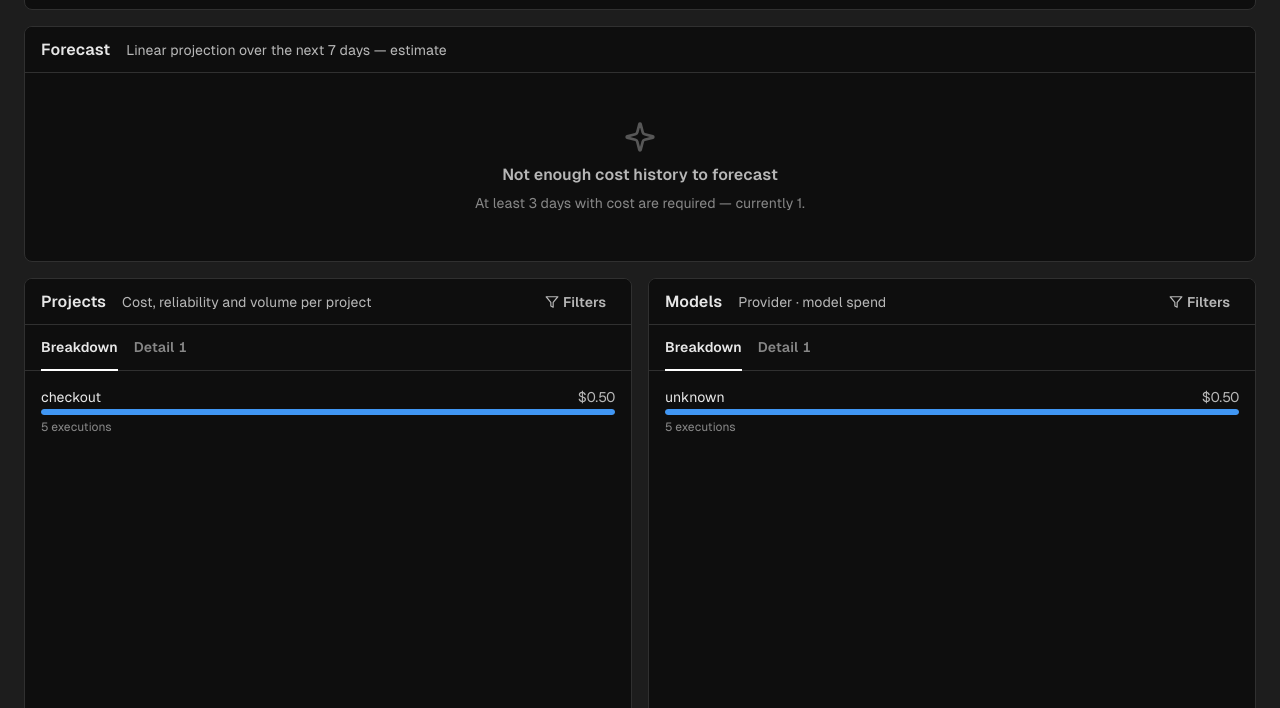
Executive › renders unit economics, forecast and the two-view cost cards
(page scrolled)
Expected: the text "Models" is shown, [665,290,722,314]
Expected: the text "Projects" is shown, [41,290,106,314]
Both cost cards switch to the capped detail view.
Click the tab "Detail 1" below "Cost, reliability and volume per project" at (160,348), box [134,325,187,371]
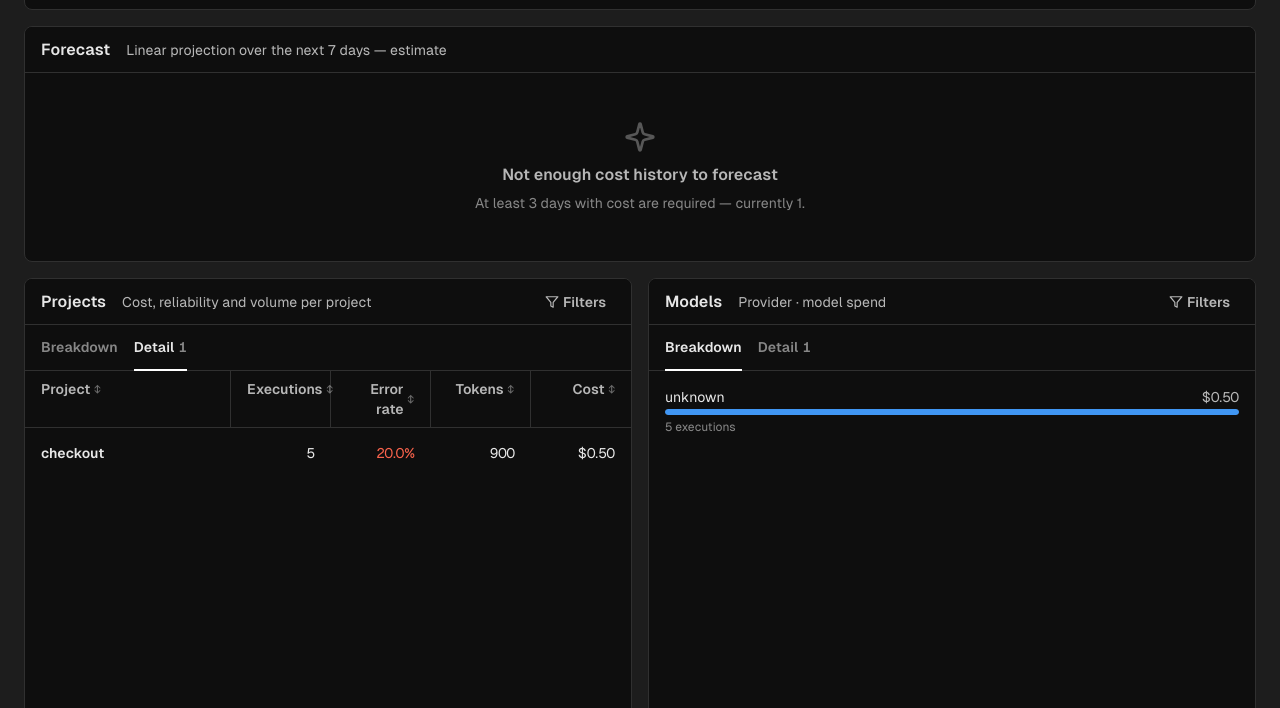
Expected: the button "Project ↕" is shown, [41,379,101,399]
Click the tab "Detail 1" below "Provider · model spend" at (784,348), box [758,325,811,371]
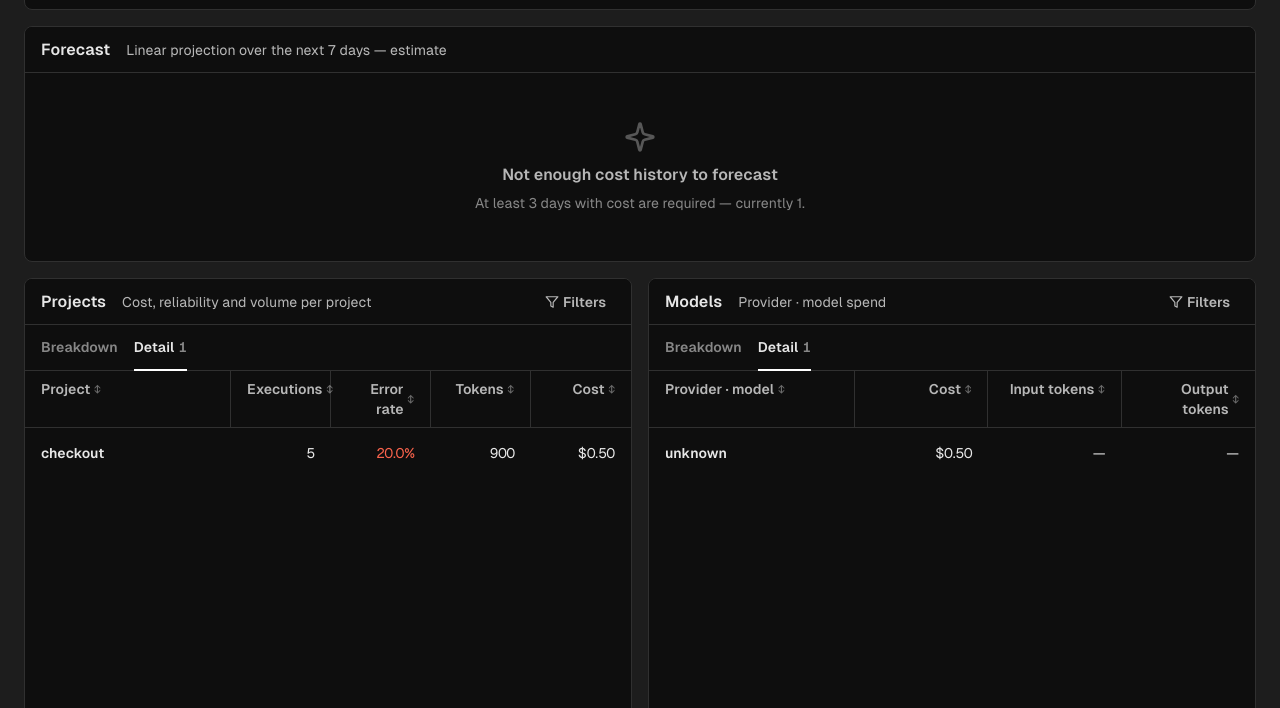
Expected: the button "Provider · model ↕" is shown, [665,379,785,399]
